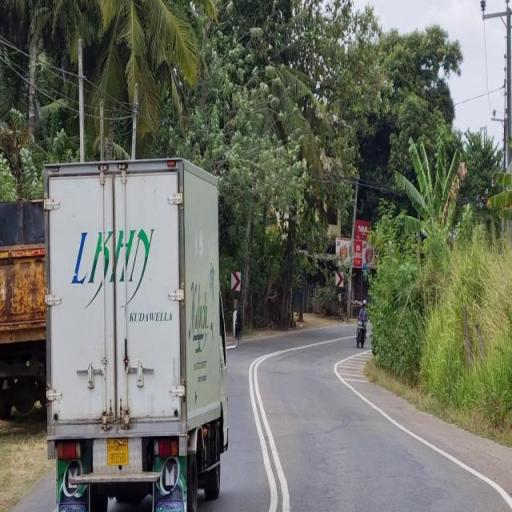double_white_line: (246, 351, 292, 512)
